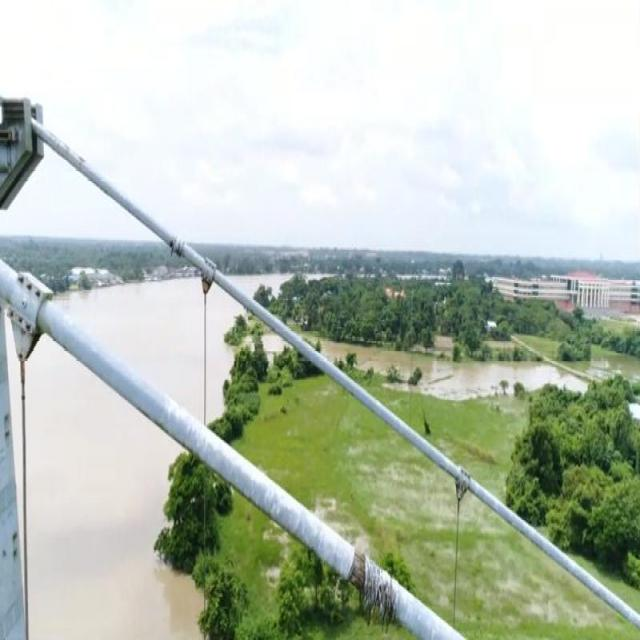corrosion: (345, 551, 400, 635), (168, 234, 186, 259), (16, 347, 26, 386), (455, 479, 466, 500), (201, 273, 210, 296), (17, 314, 24, 325), (19, 327, 27, 335), (17, 274, 23, 284), (8, 307, 13, 319), (34, 290, 40, 298), (26, 323, 32, 331), (27, 281, 32, 290)
